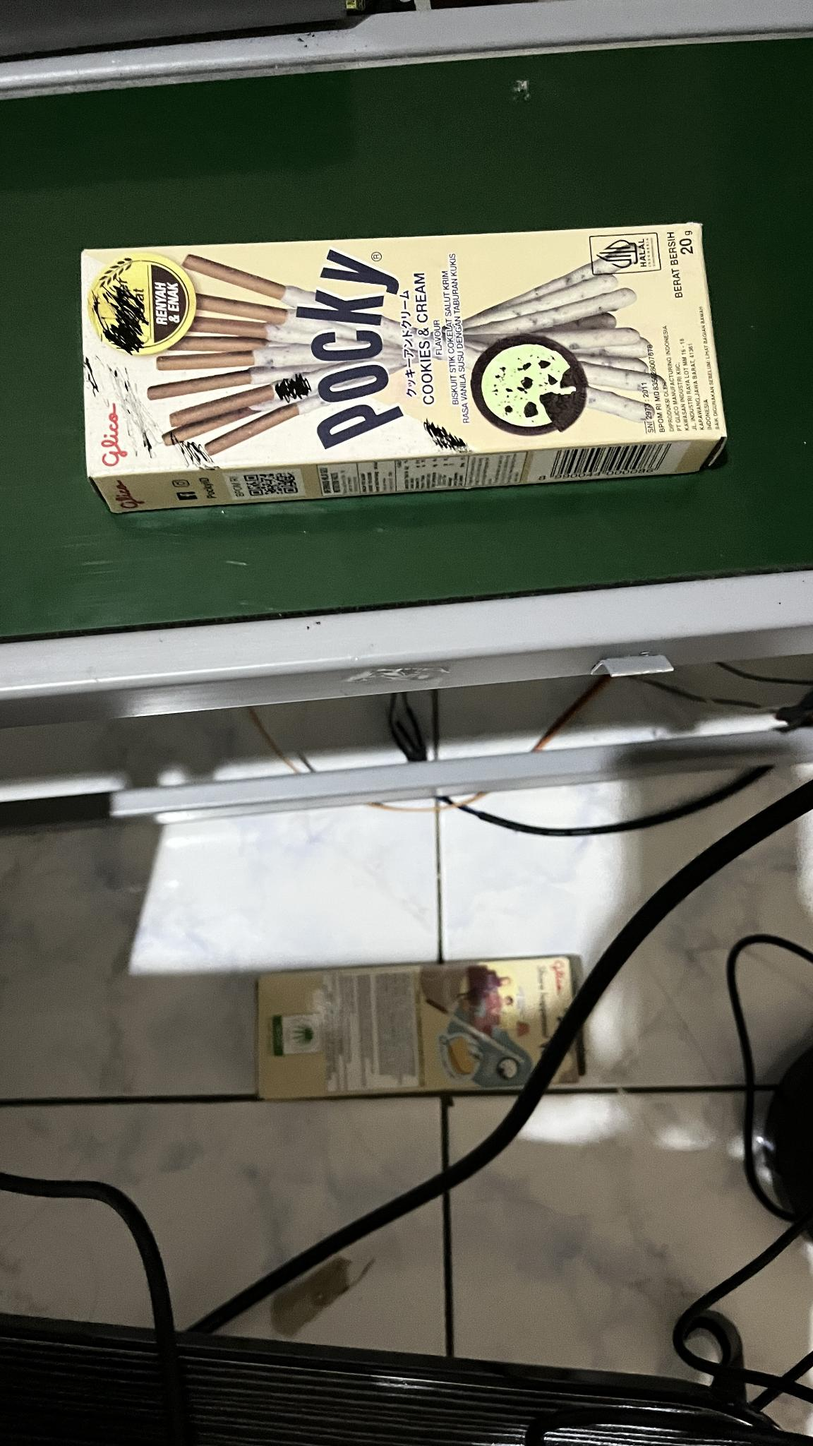Kertas: (79, 222, 735, 477)
